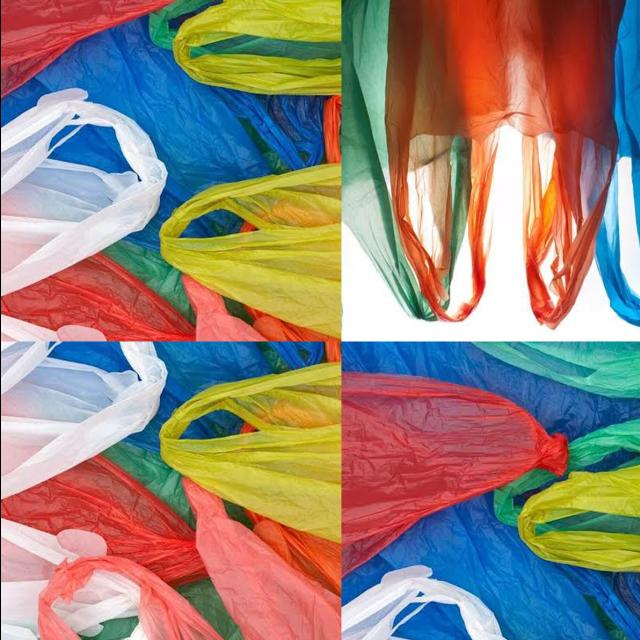plastik: (385, 0, 623, 328), (0, 17, 323, 250), (340, 372, 567, 574), (452, 363, 640, 606), (342, 493, 640, 640), (0, 88, 165, 296), (159, 363, 340, 541), (159, 164, 340, 337), (340, 0, 436, 321), (342, 343, 640, 439), (0, 454, 206, 586), (0, 341, 166, 499), (183, 480, 339, 640), (124, 341, 323, 452), (0, 253, 194, 341), (171, 0, 340, 94), (37, 555, 223, 640), (594, 0, 640, 327), (516, 465, 640, 571), (0, 519, 106, 640), (340, 566, 505, 640), (473, 341, 640, 398), (50, 570, 139, 637), (52, 128, 126, 171)
